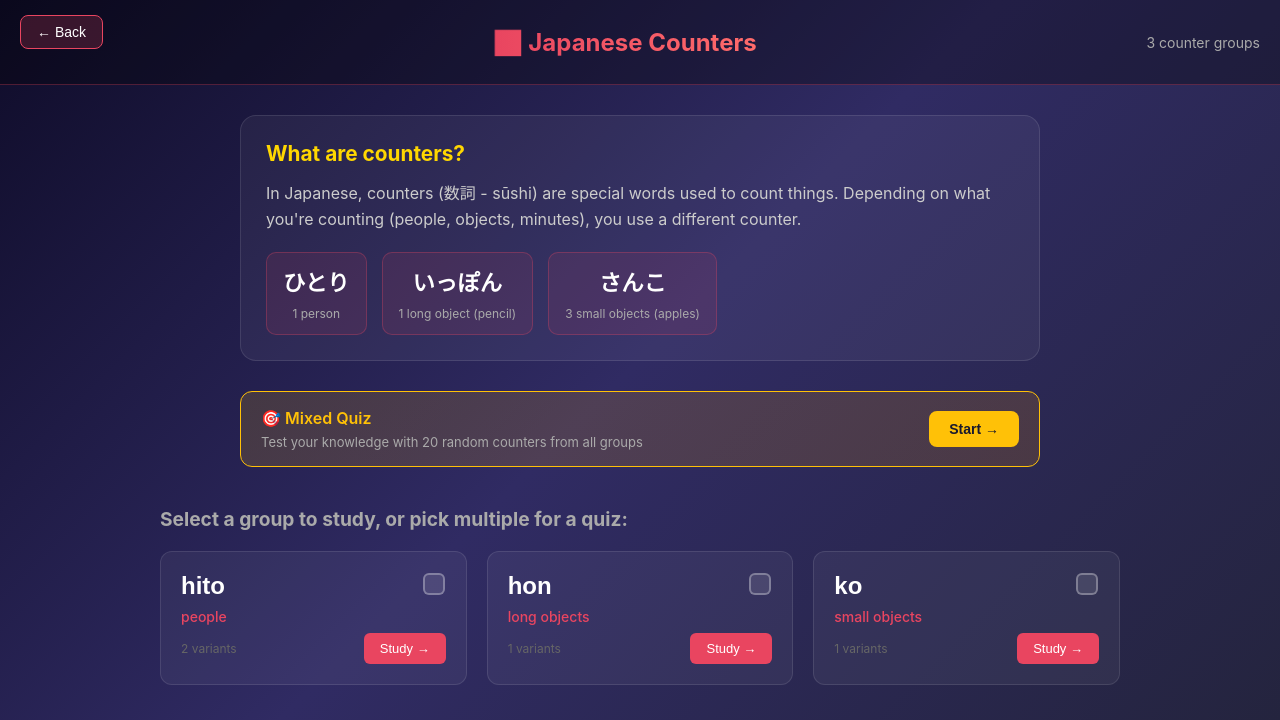
Test case: CountersMode uncovered flows › should select groups via checkbox and show practice FAB
Check: the heading "hito" is shown, box 181,572 -> 225,600
Click the checkbox with class "group-checkbox" in the row of "hito" at (434, 584), box 422,572 -> 446,596
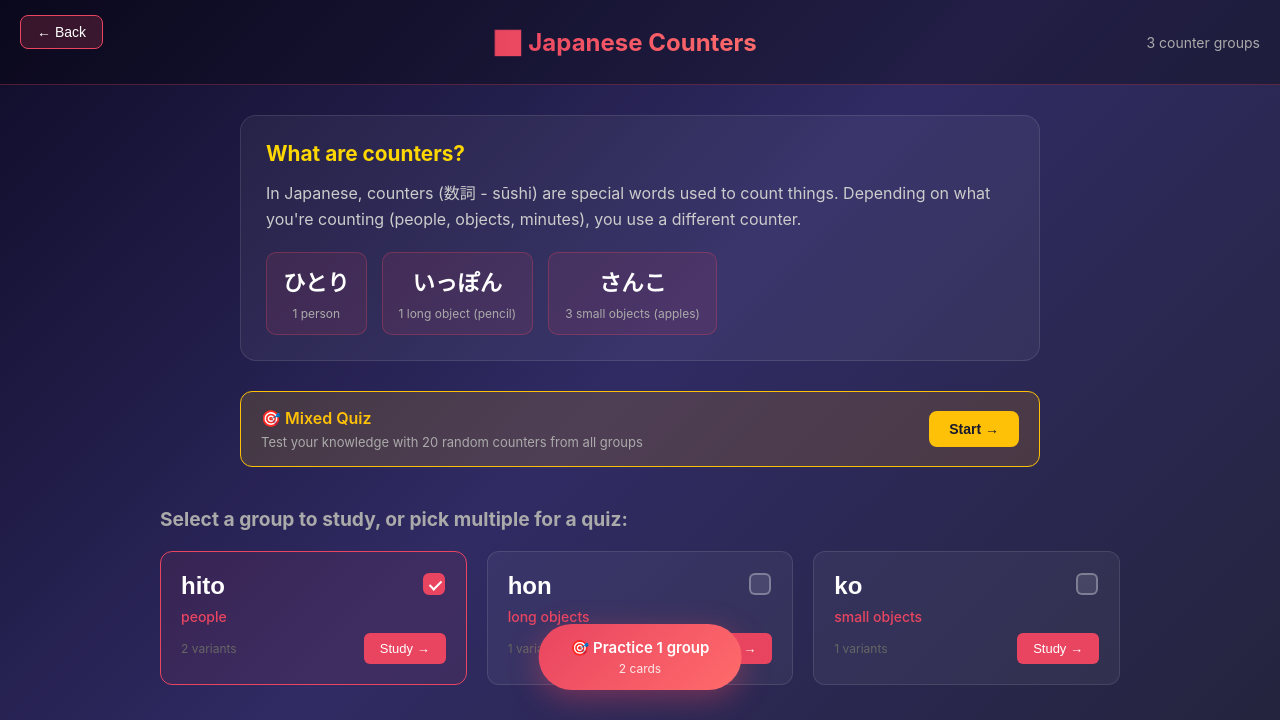
Check: the text "🎯 Practice 1 group" is shown, box 571,638 -> 709,657
Click the checkbox with class "group-checkbox" in the row of "hito" at (434, 584), box 422,572 -> 446,596
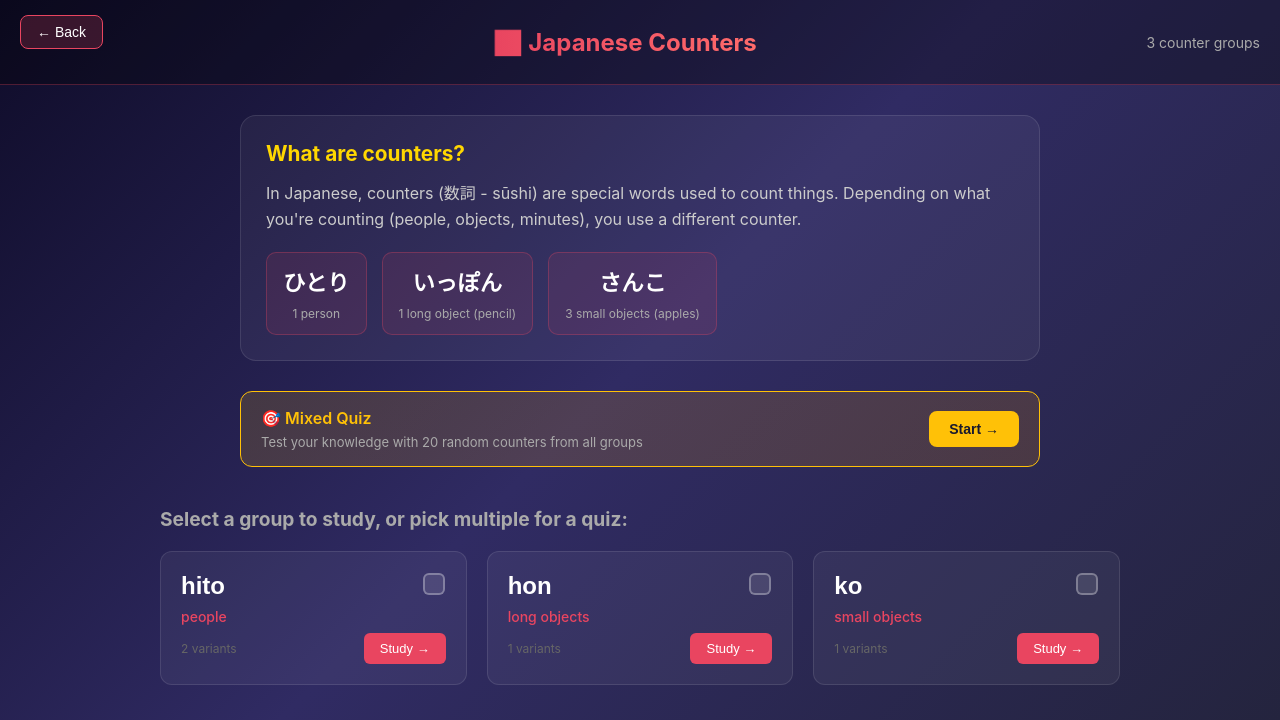
Check: the text "Practice" is gone
